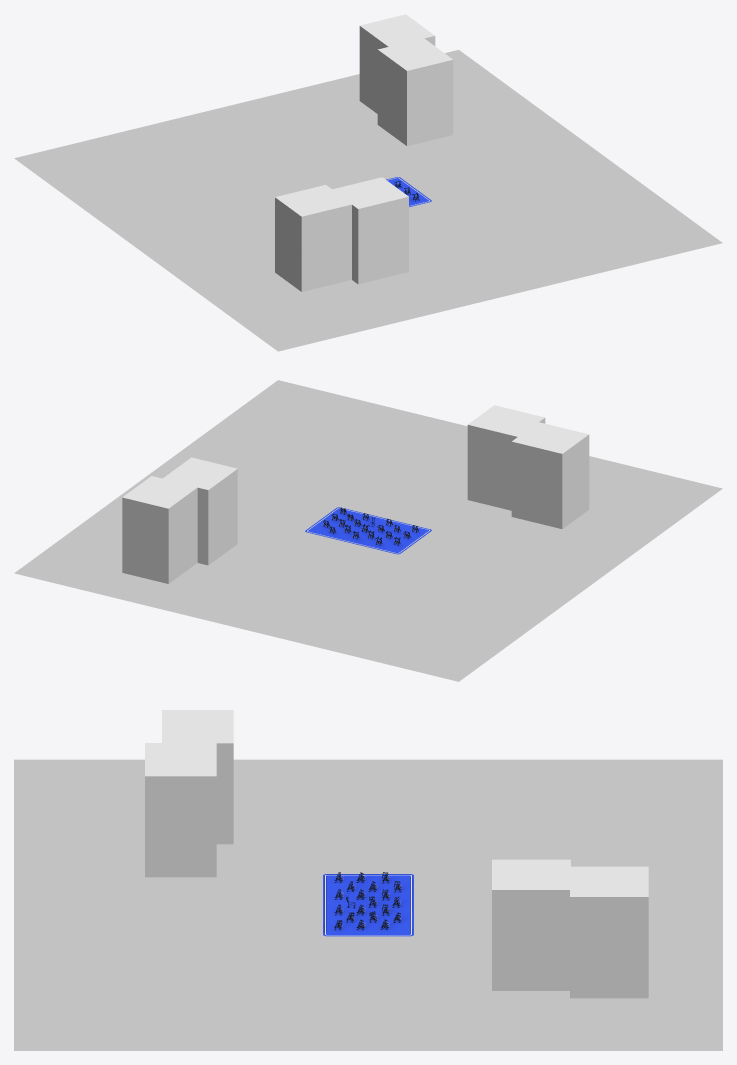
The model's file is package.glb.
3 views of the same model, one above another, from view 1: azimuth 30°, elevation 25°; view 2: azimuth 150°, elevation 25°; view 3: azimuth 270°, elevation 25° (orthographic). The views are drawn at different scales.
Visible parts, largest first — view 1: Plane, Cube.004, Cube.003, Cube.002, Cube.005; view 2: Plane, Cube.003, Cube.005, Cube.002, Cube.004, Cube; view 3: Plane, Cube.005, Cube.004, Cube.002, Cube, Cube.003.
Part boxes in pixels (x1,y1,x2,y2): Plane: (14,50,722,351); Cube.004: (377,38,453,146); Cube.003: (275,185,351,291); Cube.002: (331,177,408,284); Cube.005: (359,14,435,113); Plane: (14,380,722,681); Cube.003: (511,422,589,529); Cube.005: (122,476,197,583); Cube.002: (467,405,545,510); Cube.004: (163,457,237,565); Cube: (305,507,431,554); Plane: (14,759,722,1050); Cube.005: (570,866,648,998); Cube.004: (492,859,570,990); Cube.002: (145,743,216,877); Cube: (323,874,413,936); Cube.003: (162,710,233,844).
Size of the model in its own units: 142 by 23.23 by 146.
Materials: 49 (1 with a texture image).
